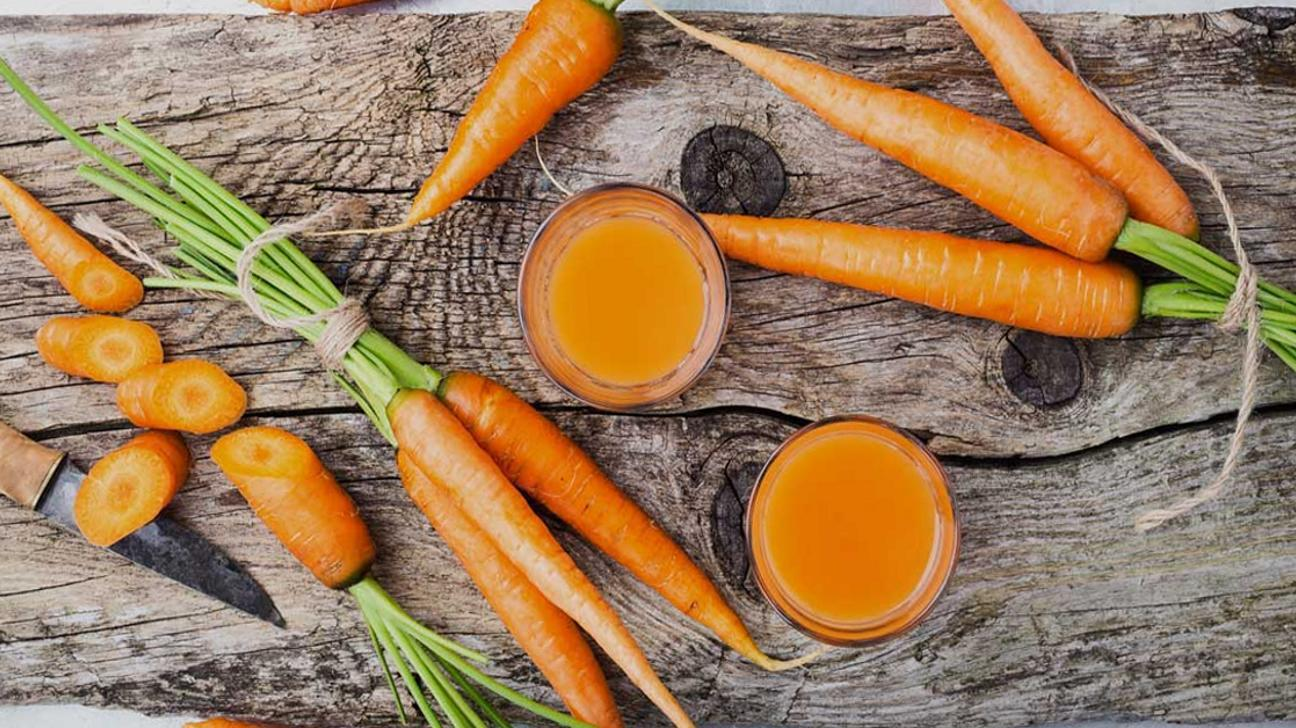carrot: (687, 0, 1255, 285), (383, 360, 750, 726), (719, 189, 1296, 371), (214, 426, 478, 702), (362, 0, 627, 236)
